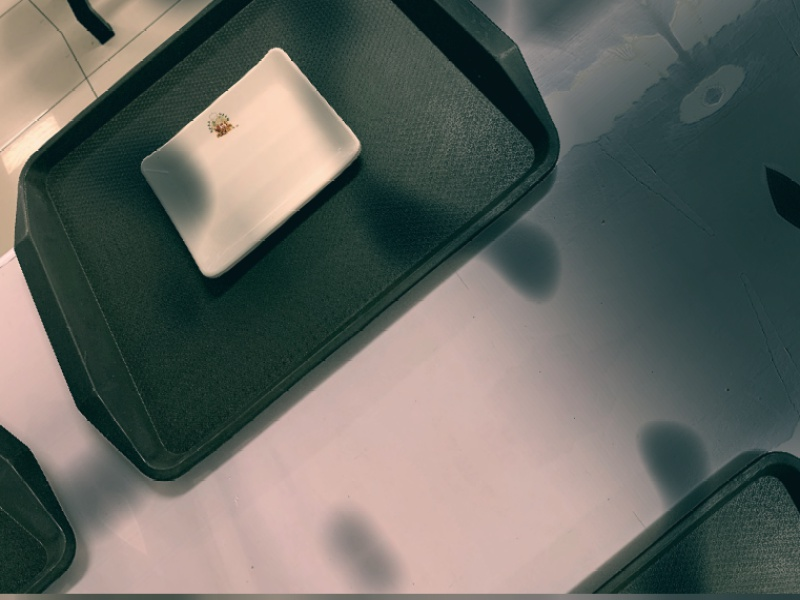dish4: (116, 27, 381, 295)
